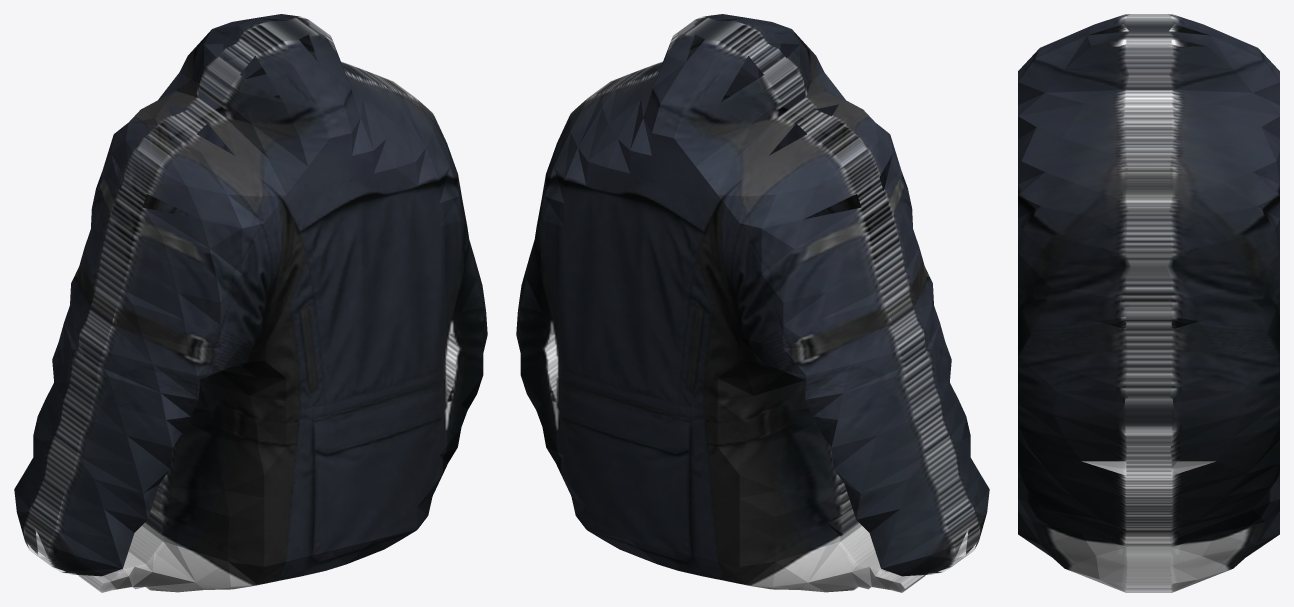
Rendered from puig-vector-touring-jacket-020.glb.
3 renders of one model, left to right at view 1: azimuth 30°, elevation 25°; view 2: azimuth 150°, elevation 25°; view 3: azimuth 270°, elevation 25°, orthographic.
Visible parts, largest first — view 1: world; view 2: world; view 3: world.
Boxes of the visible parts, x1,y1,x2,y2 form: world: [14, 14, 487, 592]; world: [516, 14, 989, 592]; world: [1018, 14, 1279, 592].
Size of the model in its own units: 0.8444 by 1 by 0.44.
1 material, 1 textured.
